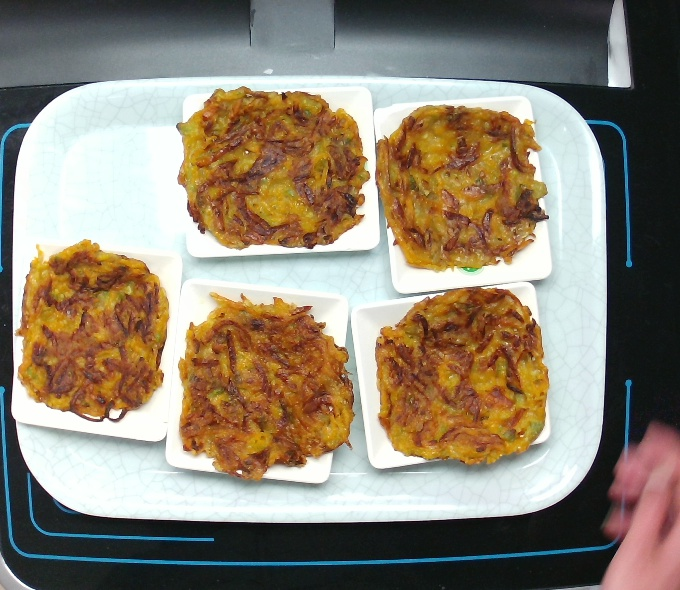wcq-NanGuaBing: (175, 283, 360, 477), (375, 283, 554, 471), (173, 81, 371, 249), (375, 97, 550, 271), (19, 237, 173, 415)
